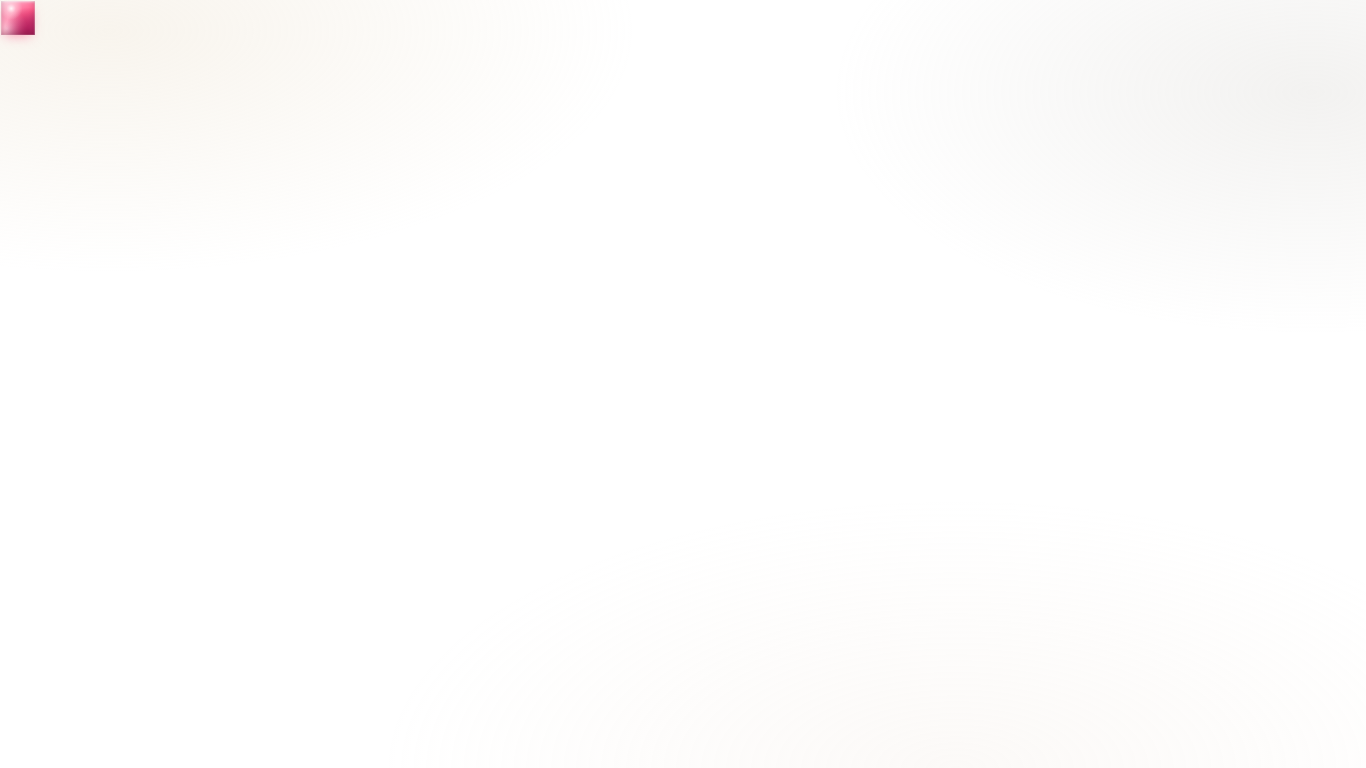
Test: AccountMenu on a phone › opens a bottom sheet with the everyday destinations, theme switch and Sign out
The image size is (1366, 768).
Later steps or results of the test are not shown.
Click the button named "account menu": (18, 18) x1=0 y1=0 x2=36 y2=36
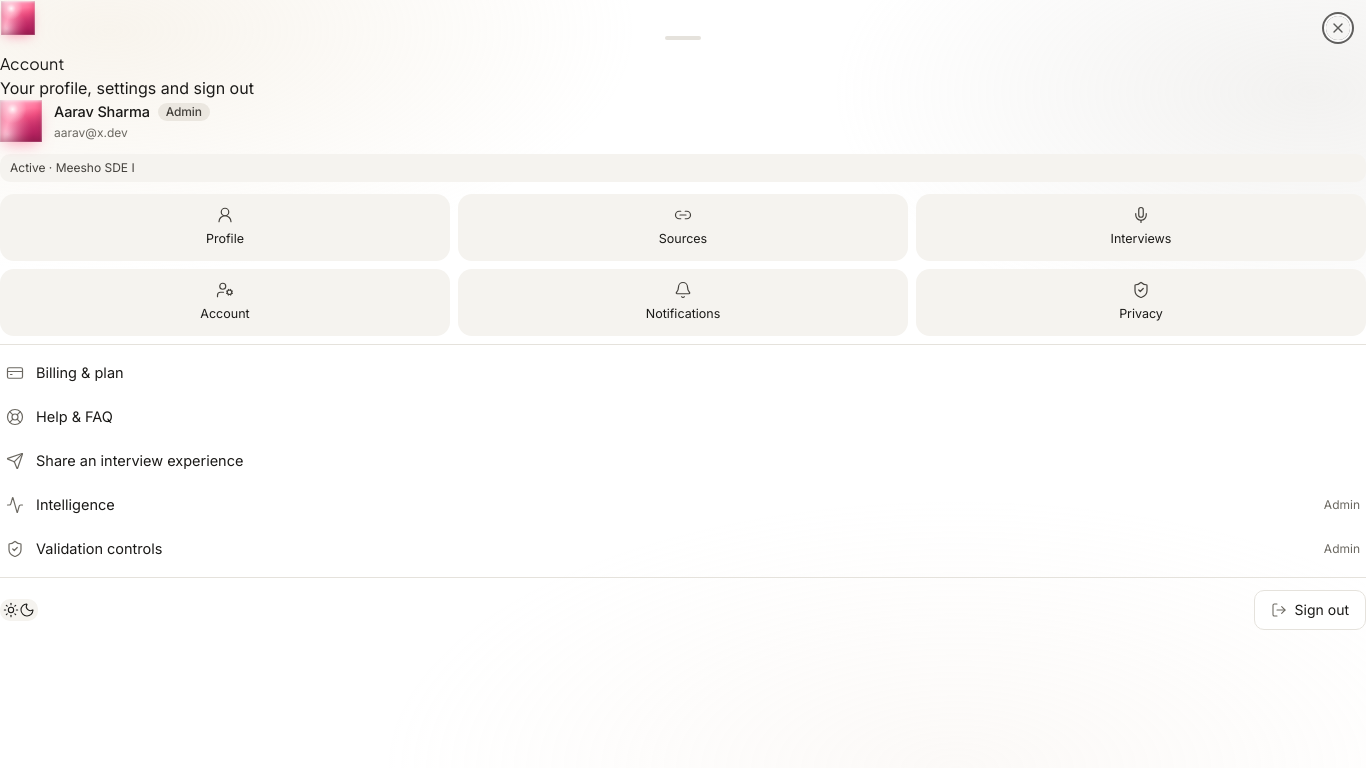
Now the dialog is shown
Now the link "Profile" is shown, box x1=0 y1=194 x2=450 y2=261
Now the link "Sources" is shown, box x1=458 y1=194 x2=908 y2=261
